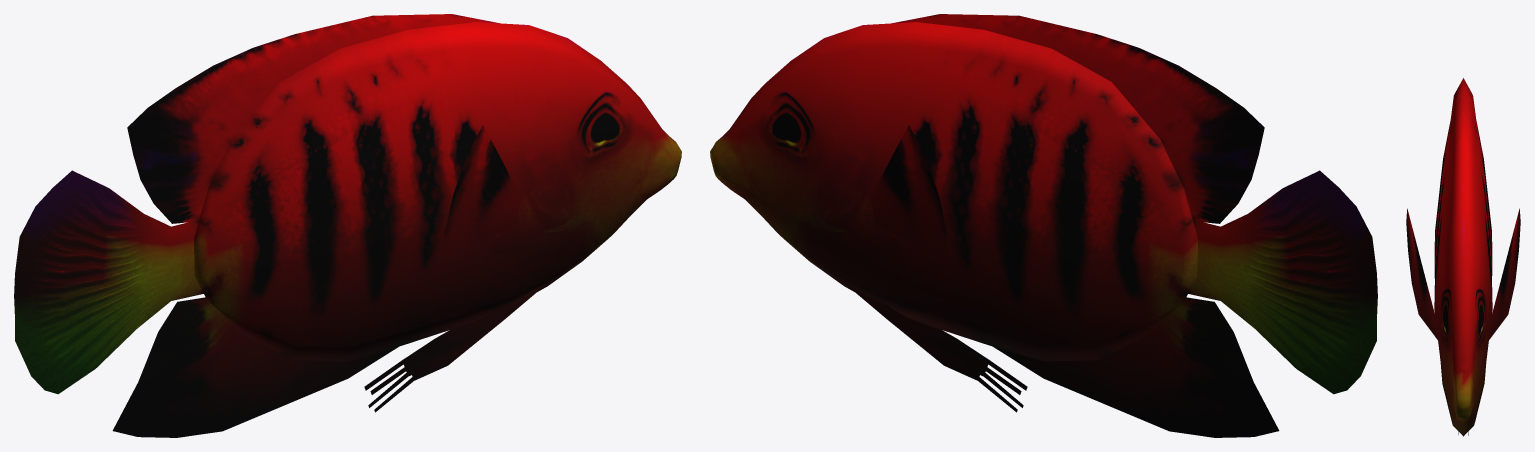
The model's file is flame_angelfish.glb.
3 views of the same model, side by side, from view 1: azimuth 30°, elevation 25°; view 2: azimuth 150°, elevation 25°; view 3: azimuth 270°, elevation 25° (orthographic). The views are drawn at different scales.
Visible parts, largest first — view 1: FlameAngelfish; view 2: FlameAngelfish; view 3: FlameAngelfish.
Part boxes in pixels (box(x1,y1,x2,y2)): FlameAngelfish: box(14, 14, 681, 437); FlameAngelfish: box(710, 14, 1377, 437); FlameAngelfish: box(1406, 78, 1520, 436).
Bounding box in the file's own units: 1 × 0.5673 × 0.1663.
Materials: 1 (1 with a texture image).
